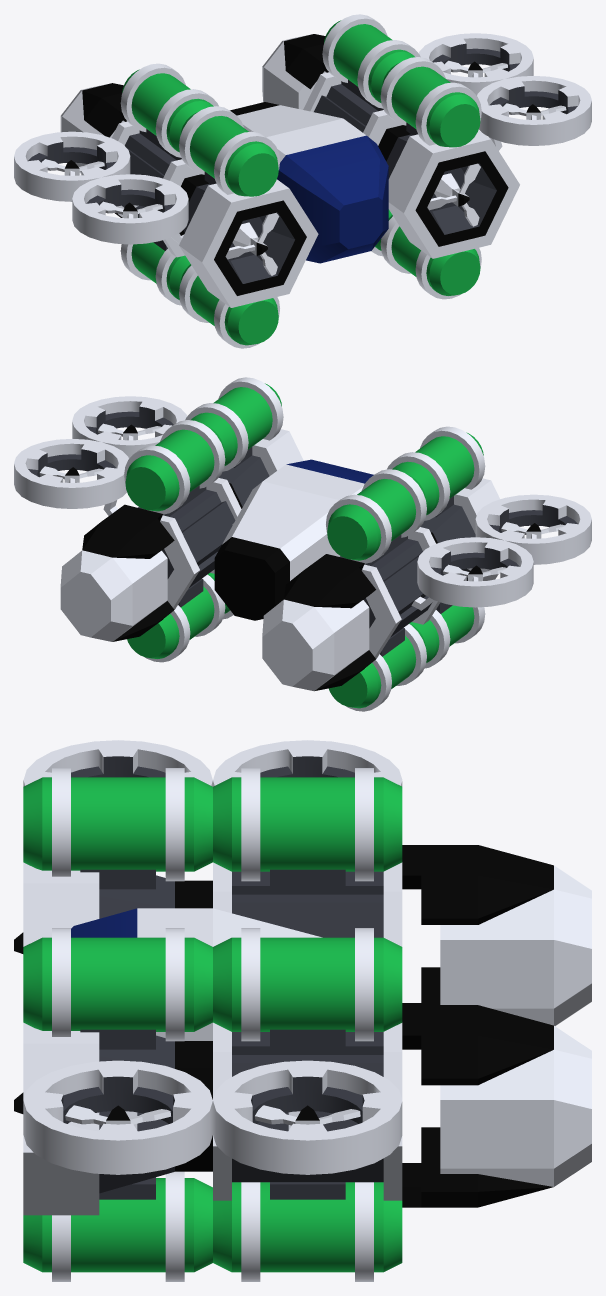
File: atmoscrubber.fbx
The picture shows the model from 3 angles, top to bottom: view 1: azimuth 30°, elevation 25°; view 2: azimuth 150°, elevation 25°; view 3: azimuth 270°, elevation 25°; orthographic projection. The views are drawn at different scales.
Visible parts, largest first — view 1: mergedBlocks; view 2: mergedBlocks; view 3: mergedBlocks.
Boxes of the visible parts, left/top/right/bottom form: mergedBlocks: left=14, top=14, right=591, bottom=348; mergedBlocks: left=14, top=377, right=591, bottom=711; mergedBlocks: left=14, top=740, right=591, bottom=1281.
Size of the model in its own units: 50 by 20 by 30.5.
Materials: 1 (1 with a texture image).
